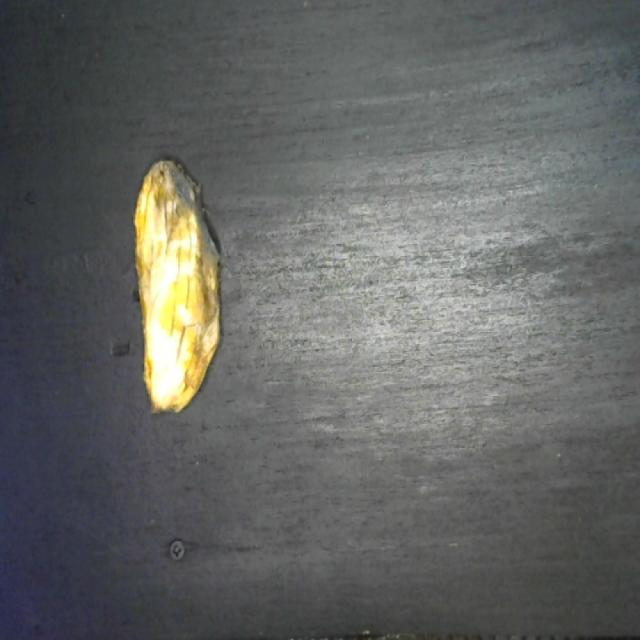biodegradable: (128, 140, 227, 427)
